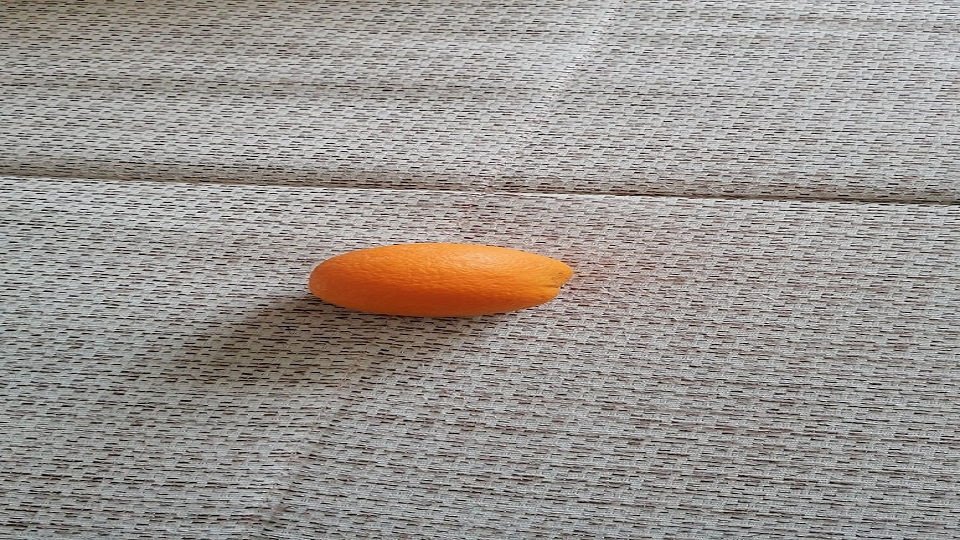portakal: (307, 242, 575, 318)
